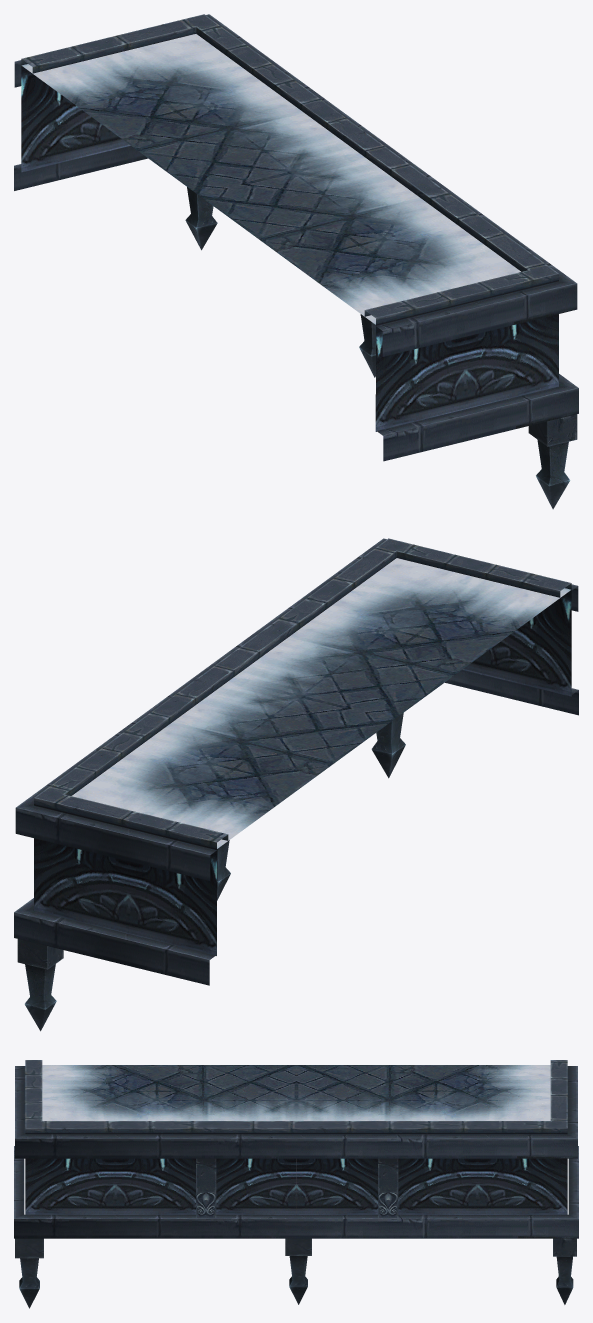
Rendered from Ice_platform05.FBX.
3 views of the same model, one above another, from view 1: azimuth 30°, elevation 25°; view 2: azimuth 150°, elevation 25°; view 3: azimuth 270°, elevation 25° (orthographic). The views are drawn at different scales.
Visible parts, largest first — view 1: Object15723; view 2: Object15723; view 3: Object15723.
Part boxes in pixels (left/top/right/bottom): Object15723: left=14, top=14, right=578, bottom=509; Object15723: left=14, top=538, right=578, bottom=1031; Object15723: left=14, top=1060, right=578, bottom=1308.
Bounding box in the file's own units: 512 × 594 × 1673.
